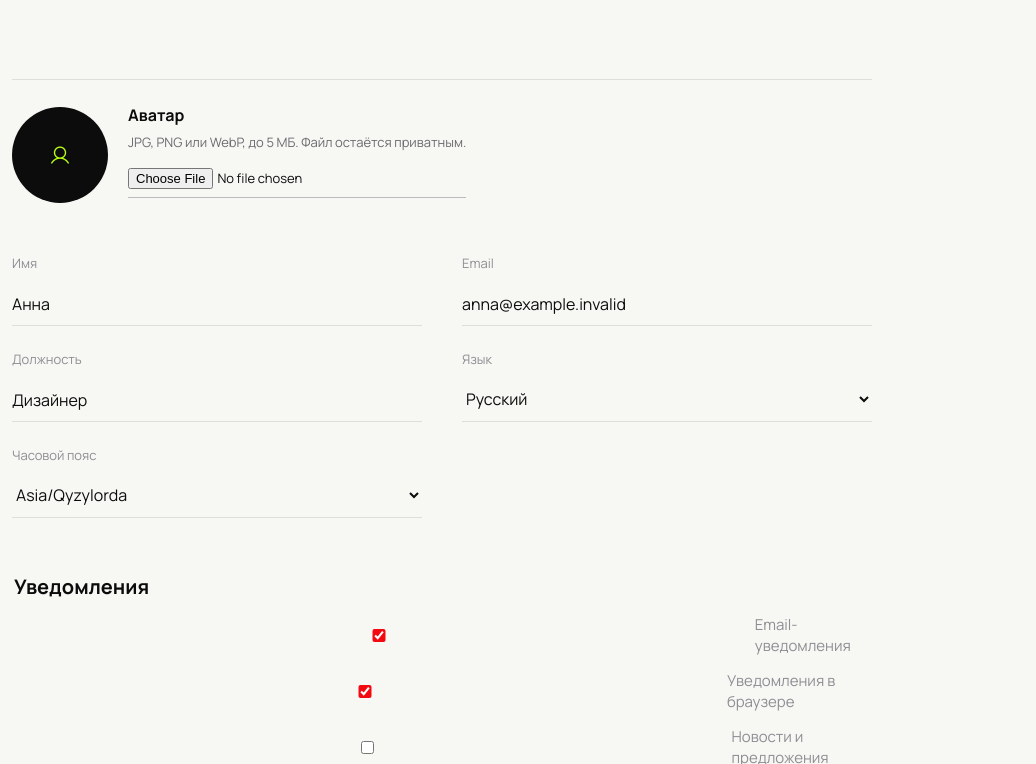
Test: profile and avatar operation coordination › retains the confirmed email while a change awaits confirmation
Replace the text in the field labelled "Имя" with "Новое имя": x=217, y=303 [12,280,422,326]
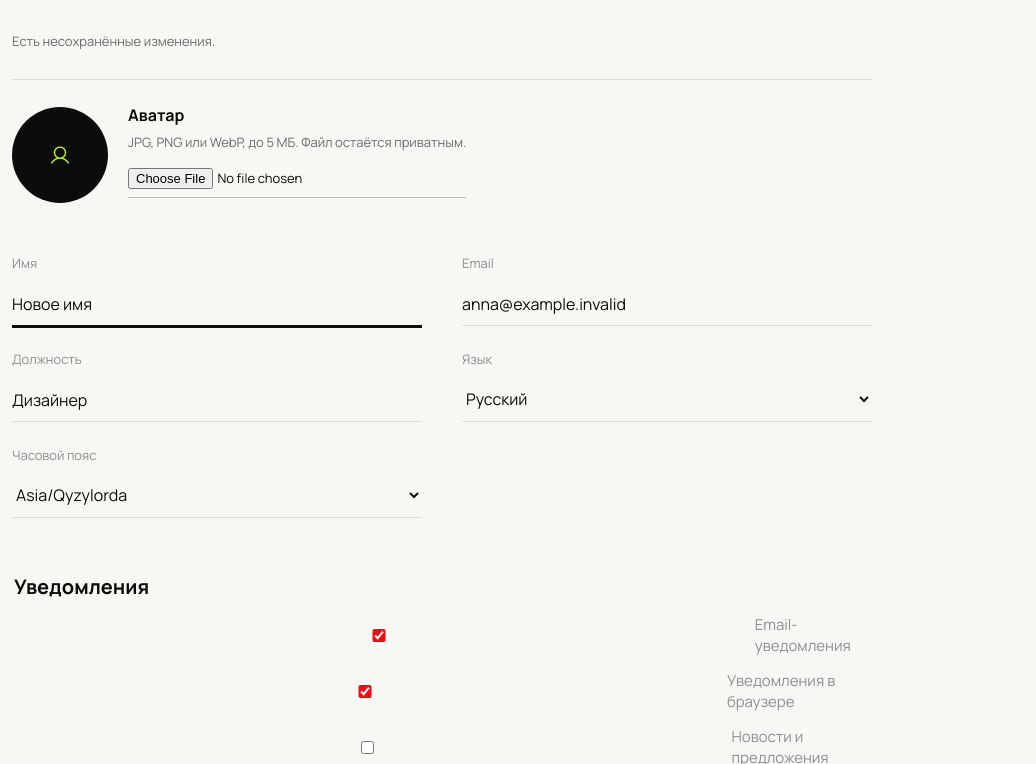
Replace the text in the field labelled "Email" with "new@example.invalid": x=667, y=303 [462,280,872,326]
(page scrolled)
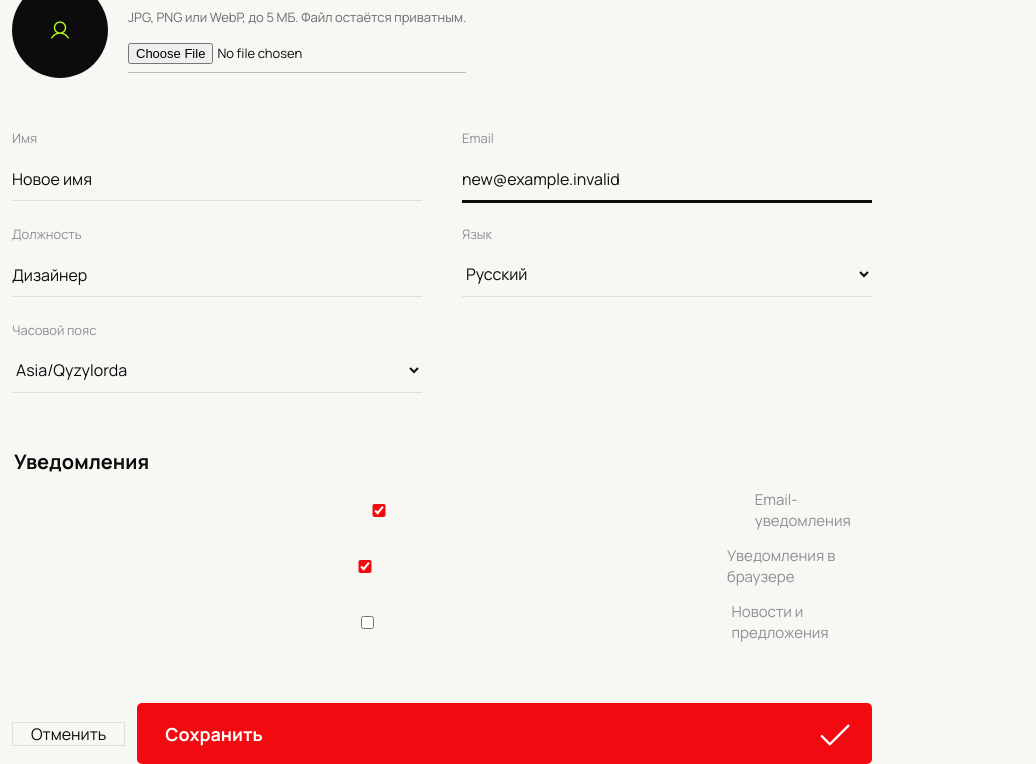
Click the button "Сохранить": x=214, y=734 [137,703,872,763]
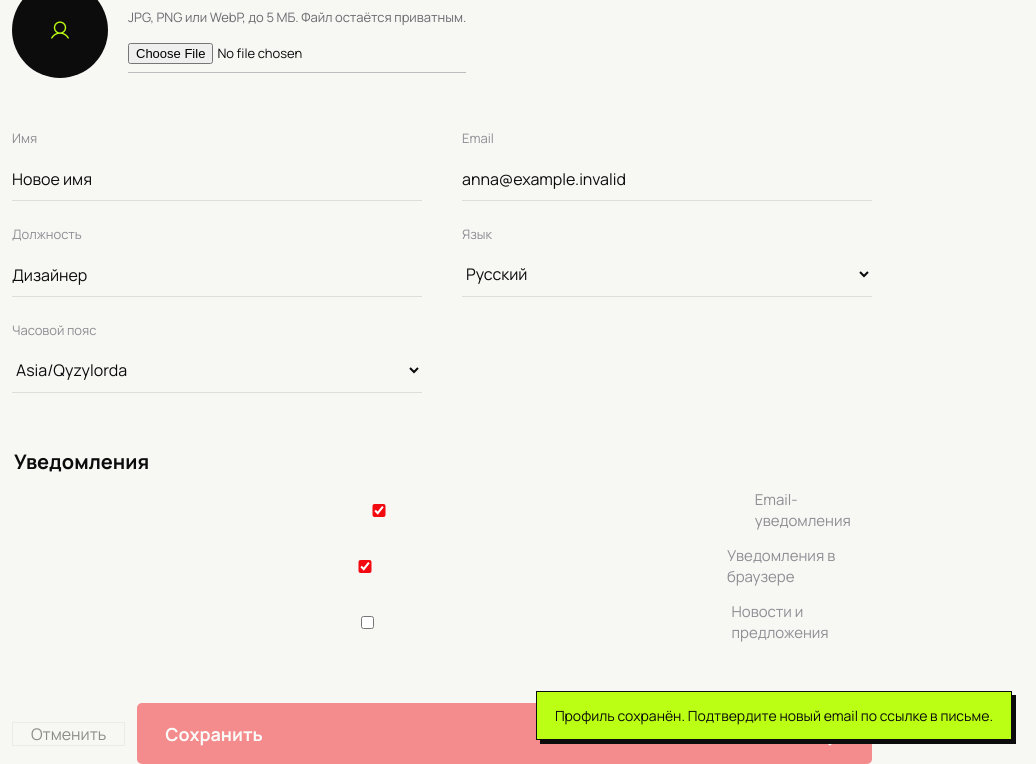
Check: the field labelled "Email" holds "anna@example.invalid", box [462,155,872,201]
